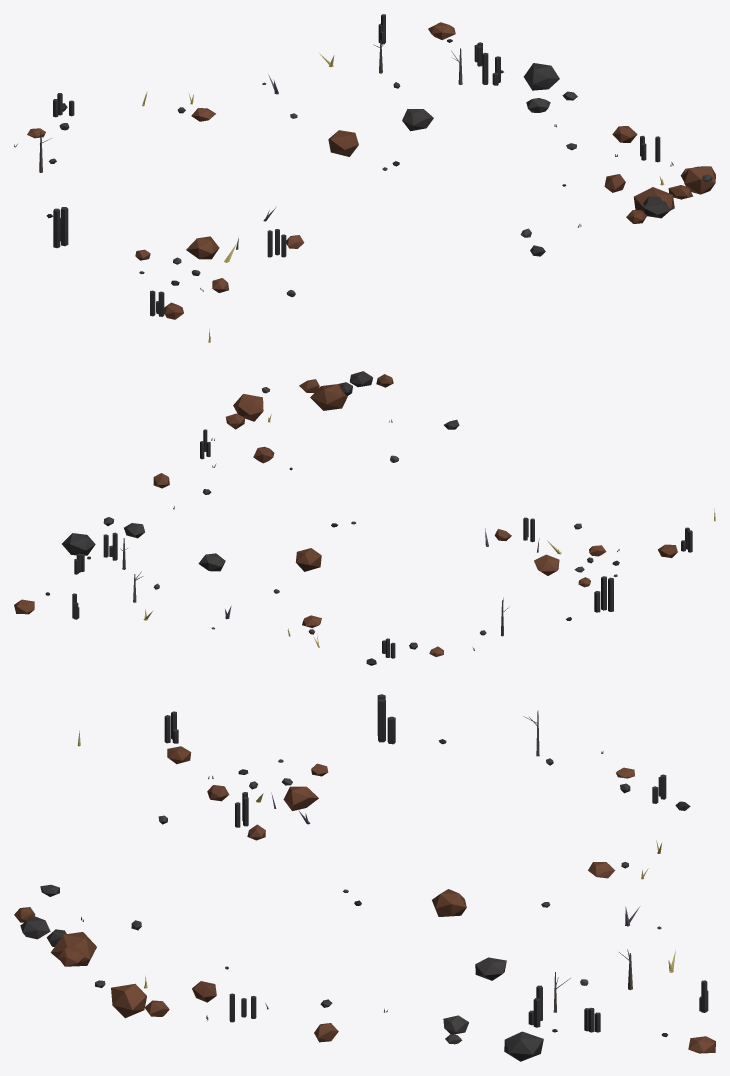
Rendered from ash_land_scatter_c20_27_lod1.glb.
3 views of the same model, one above another, from view 1: azimuth 30°, elevation 25°; view 2: azimuth 150°, elevation 25°; view 3: azimuth 270°, elevation 25° (orthographic). The views are drawn at different scales.
Parts seen in each view (by area): view 1: ash_land_scatter_c20_27_lod1; view 2: ash_land_scatter_c20_27_lod1; view 3: ash_land_scatter_c20_27_lod1.
Boxes of the visible parts, left/top/right/bottom form: ash_land_scatter_c20_27_lod1: left=14, top=14, right=715, bottom=342; ash_land_scatter_c20_27_lod1: left=14, top=371, right=715, bottom=665; ash_land_scatter_c20_27_lod1: left=14, top=694, right=715, bottom=1061.
Bounding box in the file's own units: 94.88 × 12.08 × 91.49.
